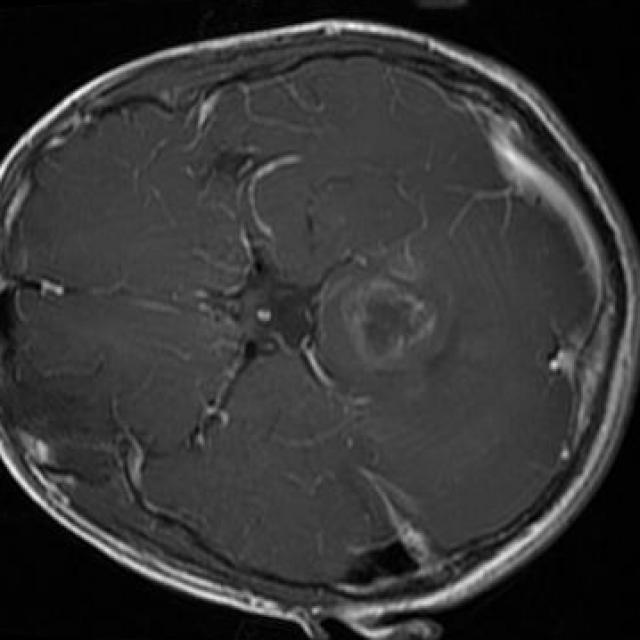glioma: (342, 257, 439, 364)
